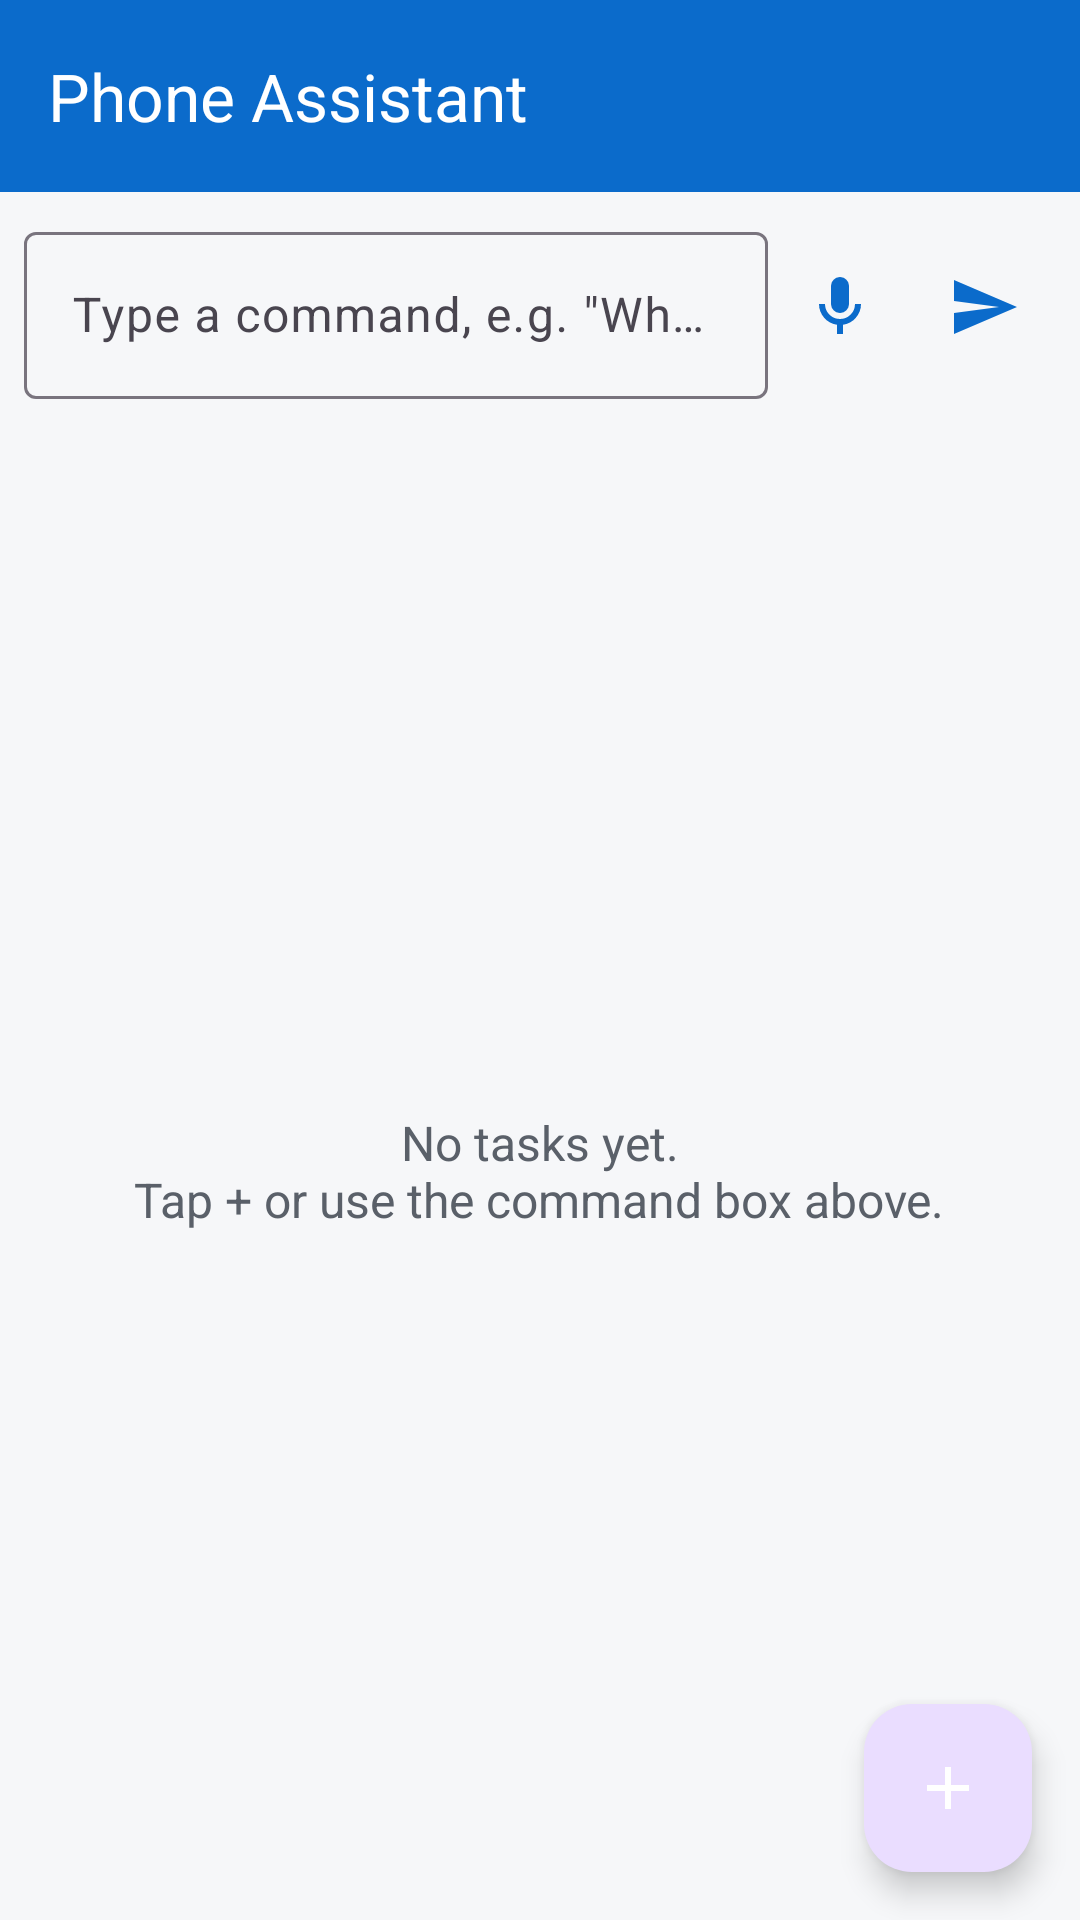

Named icons in this screenshot (1080 x 1920) and their centers, point (x, y):
Add task: point (948, 1788)
Speak: point (840, 305)
